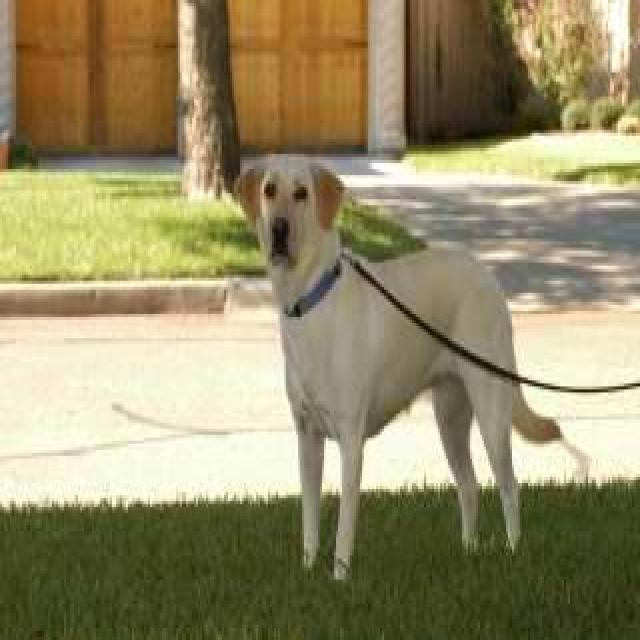Dog: (228, 132, 357, 296)
